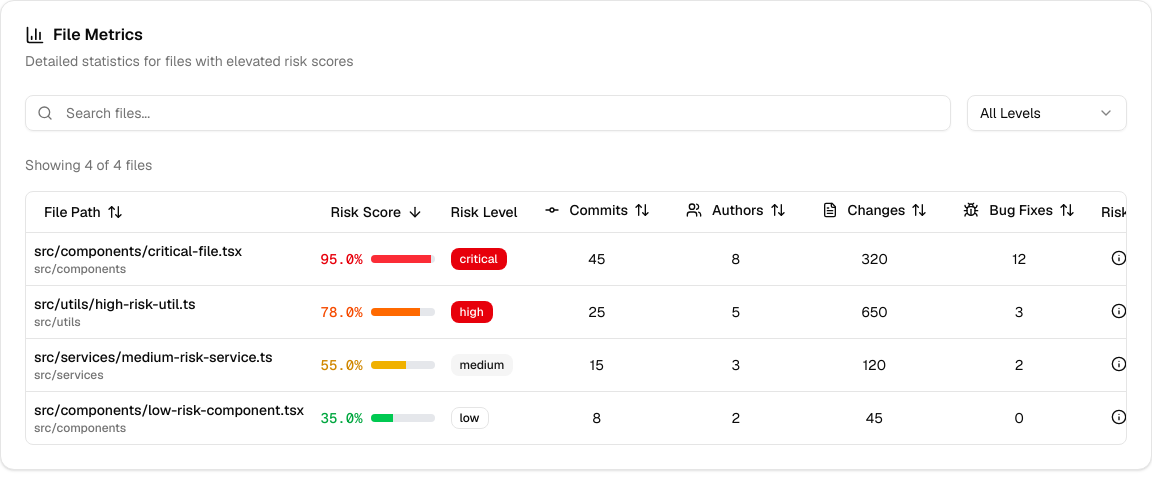
Scenario: MetricsTable › shows empty state when no results after filtering
Type "nonexistent" into the field with placeholder "Search files..." at (488, 113), box [25, 95, 951, 131]
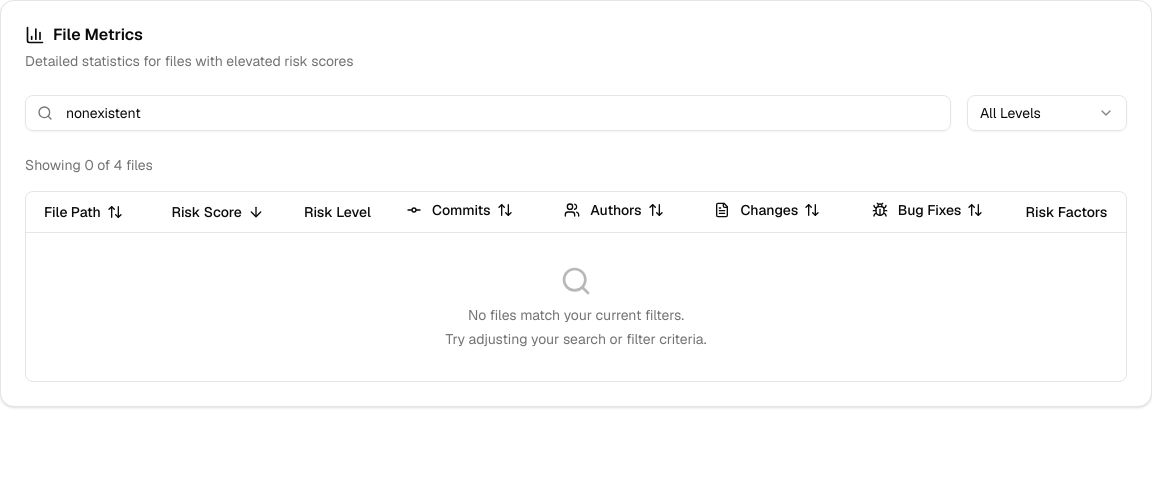
Check: the text "No files match your current filters." is shown, box [468, 306, 684, 324]
Check: the text "Try adjusting your search or filter criteria." is shown, box [446, 330, 706, 348]
